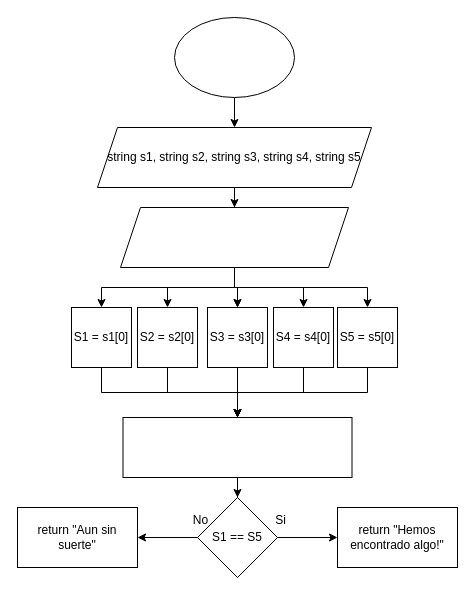
The diagram is 475 pixels wide and 595 high, and some of its shapes have lost their labels. The centre of each missing label's shape, as x and y in pixels:
cout << S1 + S2 + S3 + S4 + S5 << endl;: [237,447]
Inicio: [234,57]
string S1, S2, S3, S4, S5: [234,237]
